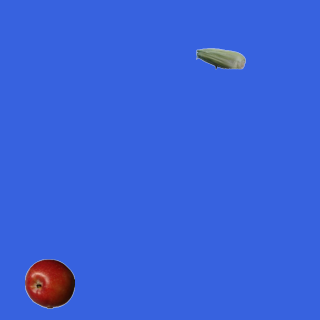Apple Braeburn: (24, 258, 74, 308)
Corn Husk: (195, 33, 245, 83)
